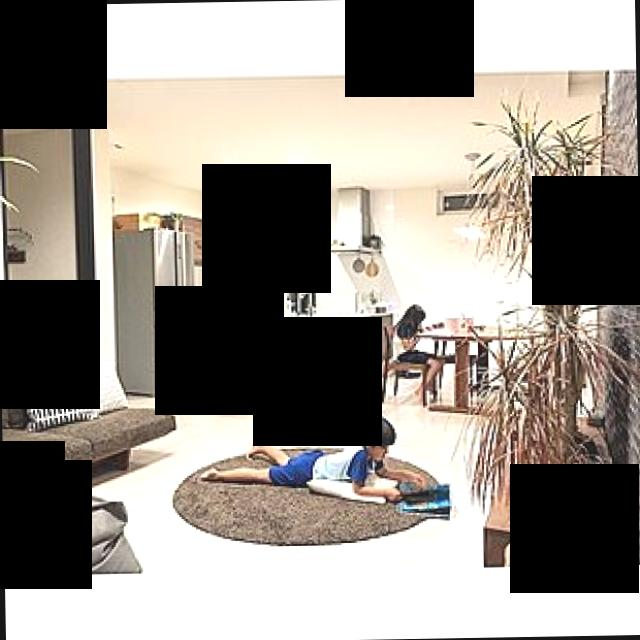modern desk: (418, 311, 548, 418)
